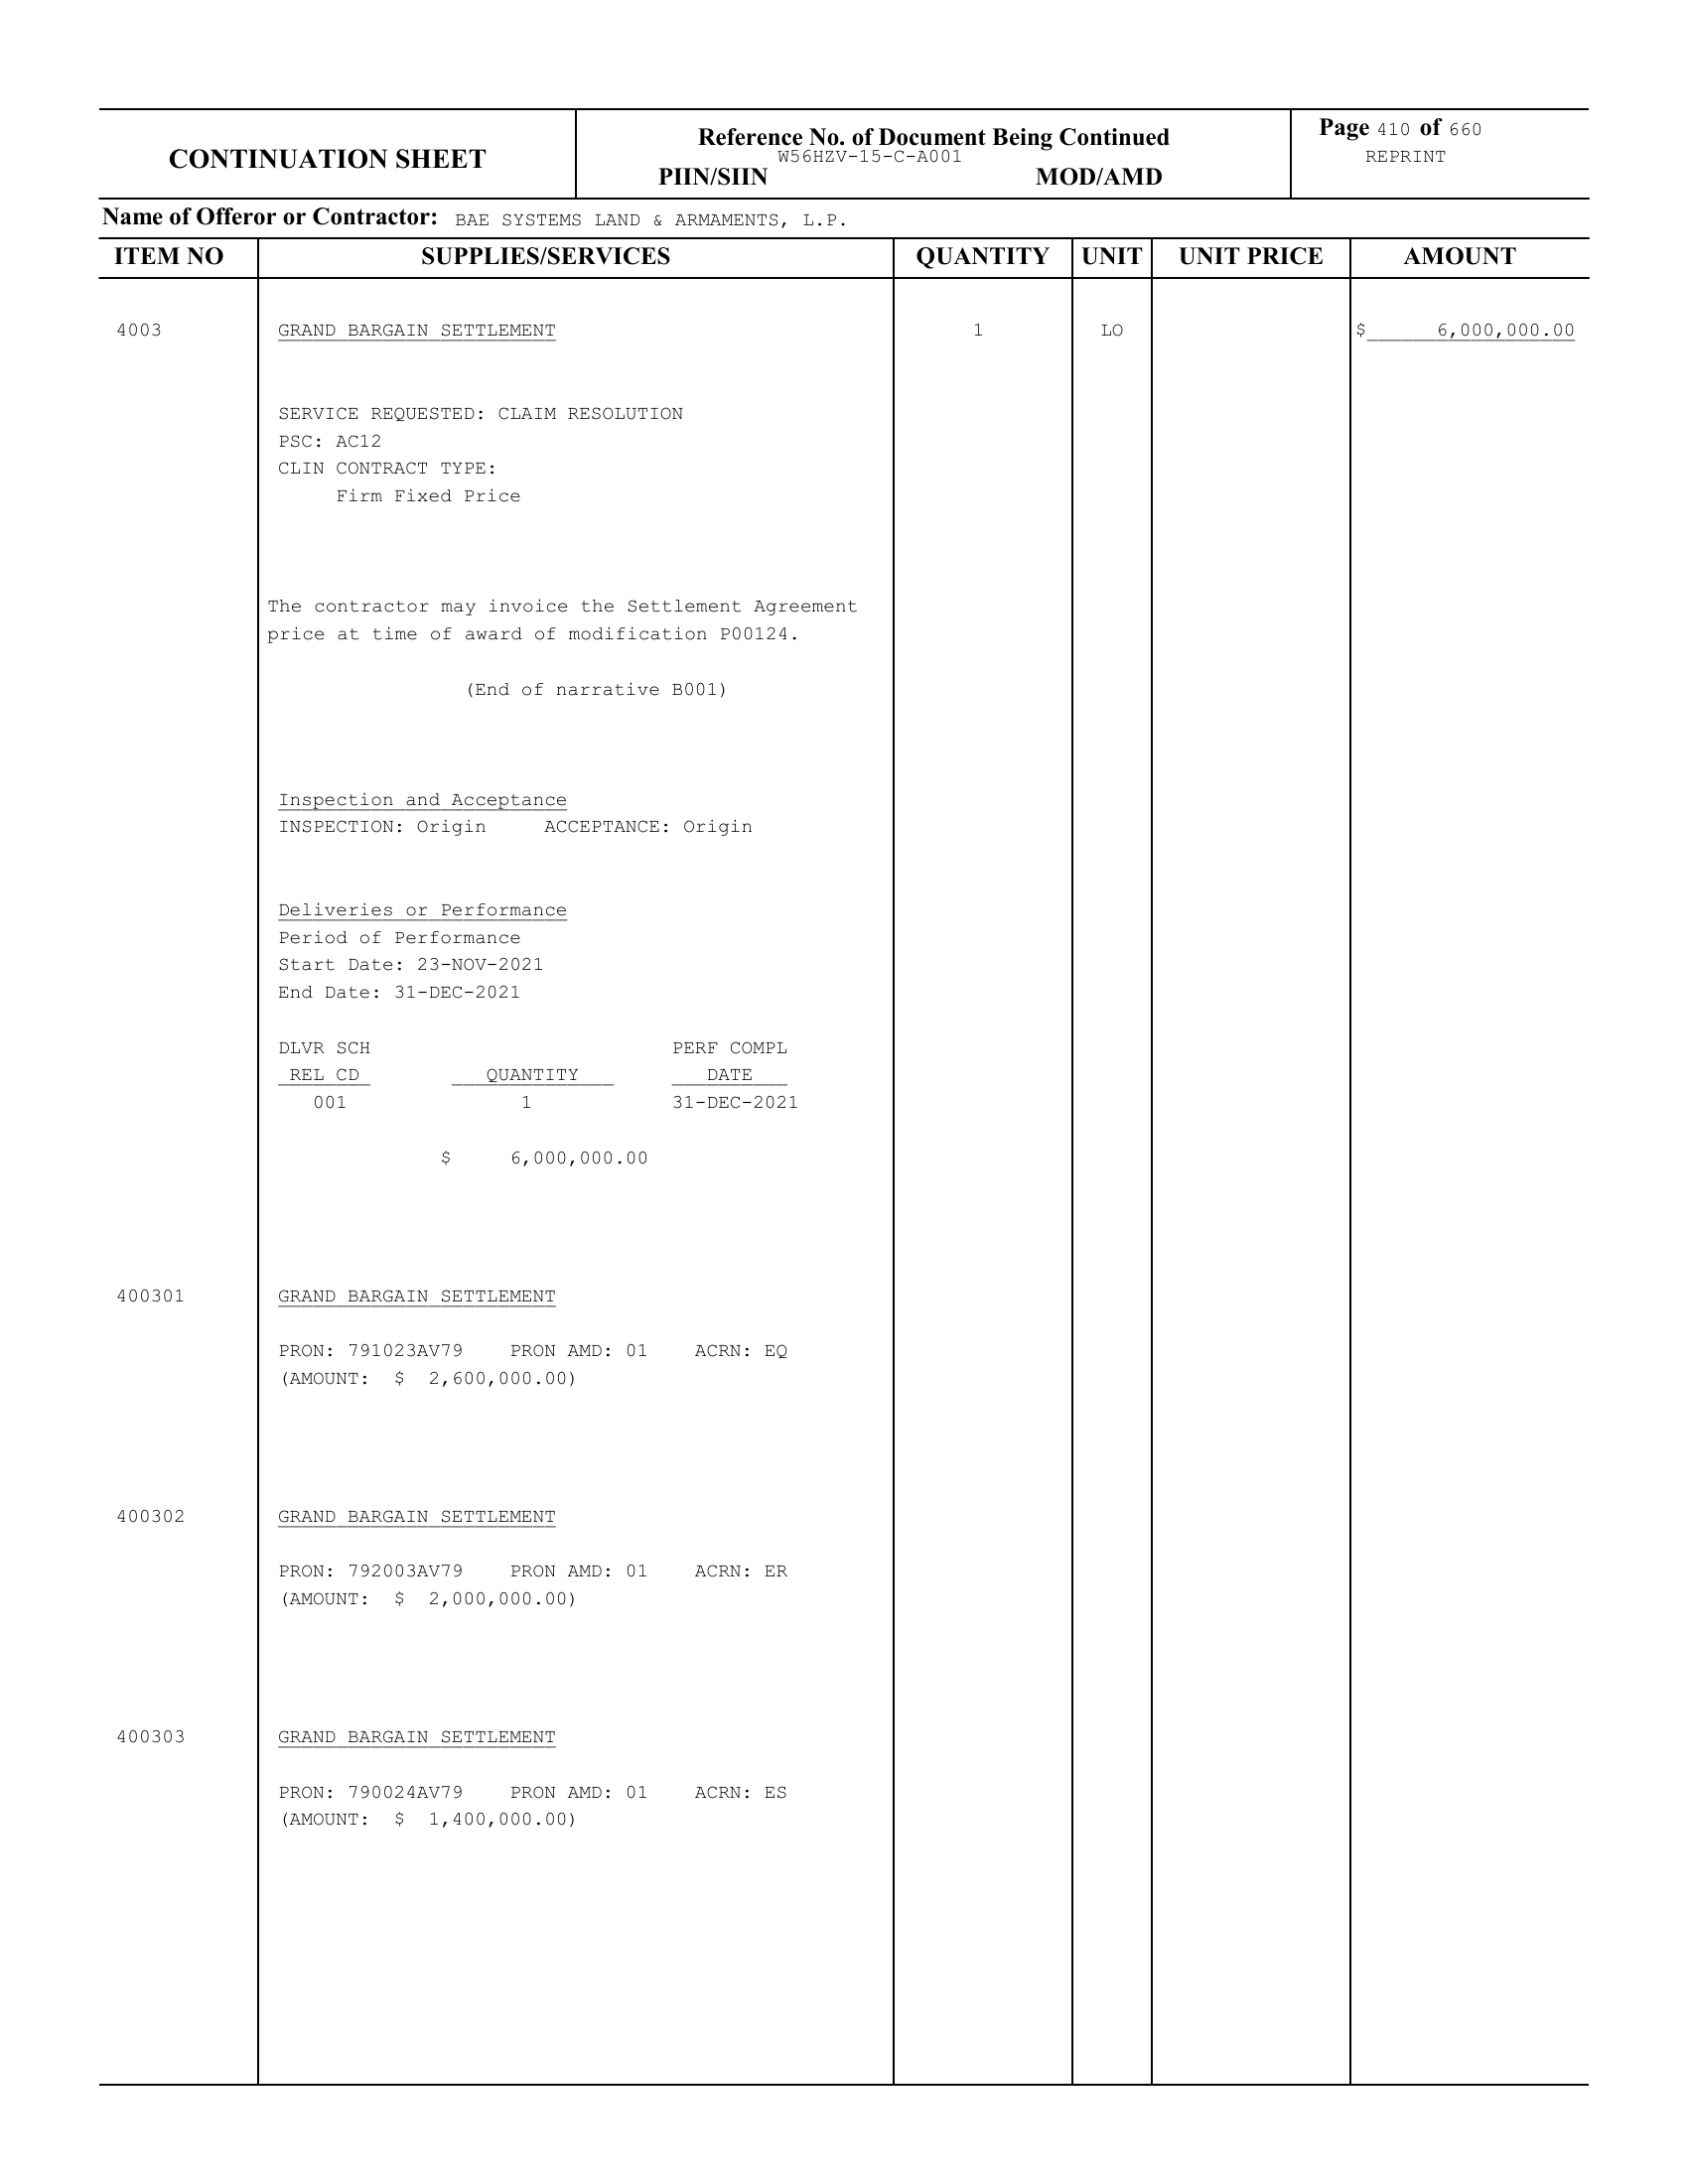table: (96, 239, 1587, 2085)
table column: (261, 236, 892, 2085), (1353, 238, 1585, 2085), (1153, 238, 1349, 2085), (892, 236, 1071, 2086), (94, 236, 257, 2085), (1073, 236, 1149, 2086)
table column header: (92, 236, 1587, 275)
table row: (96, 277, 1583, 1230), (92, 1670, 1583, 2088), (94, 1432, 1587, 1668), (92, 1230, 1583, 1429)
